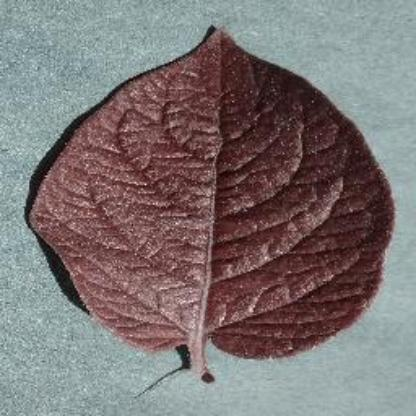Healthy-plant: (23, 24, 401, 384)
